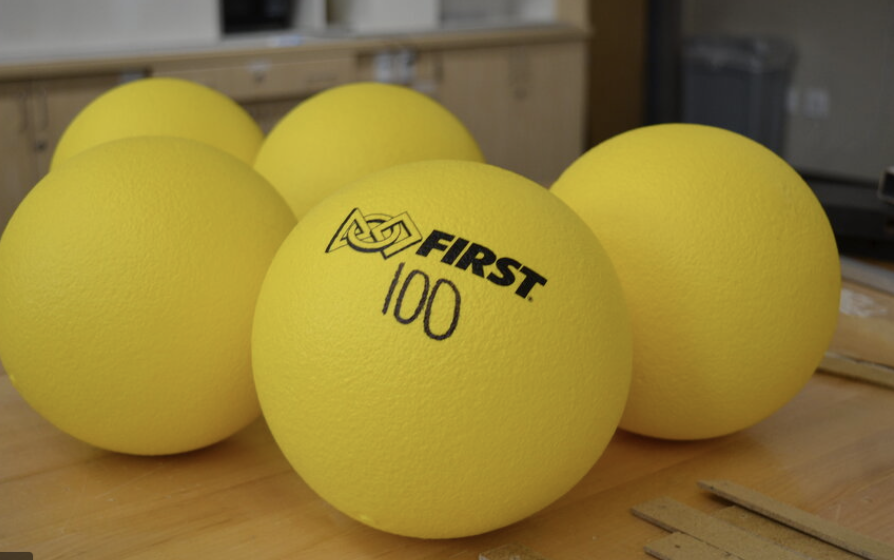powercell: (247, 159, 635, 539), (547, 132, 847, 453), (3, 122, 264, 463)
